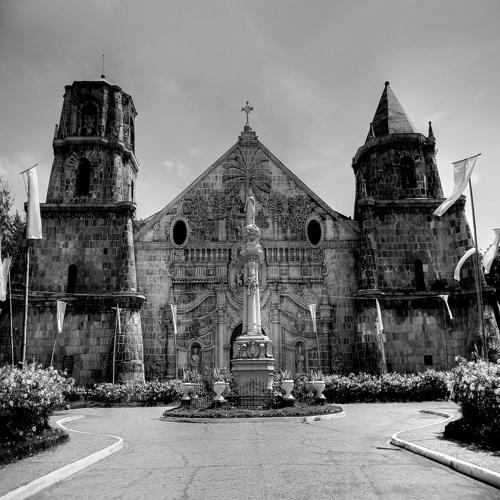Miagao Church: (24, 42, 497, 397)
